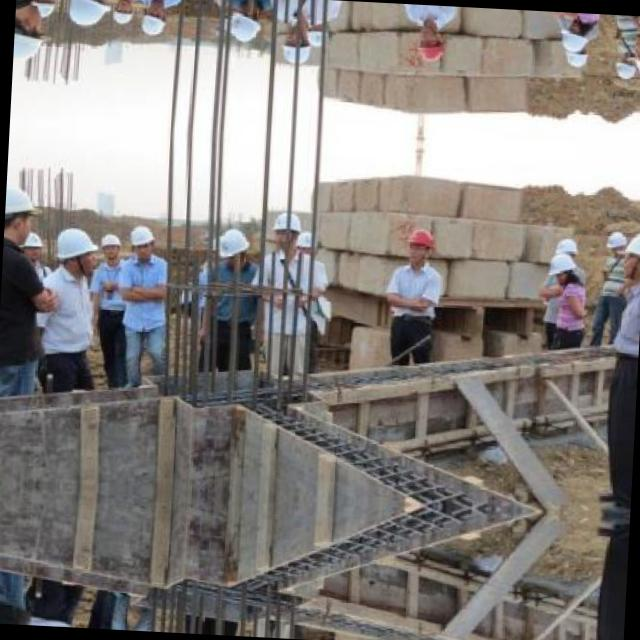helmet: (13, 1, 50, 63), (4, 182, 40, 245), (54, 225, 96, 272), (225, 3, 264, 43), (214, 224, 252, 264), (268, 210, 304, 250), (278, 23, 314, 63), (403, 224, 436, 263), (414, 24, 446, 64), (126, 223, 160, 260), (617, 227, 640, 281), (65, 0, 109, 28), (137, 0, 171, 35), (560, 14, 591, 52), (548, 251, 578, 288), (16, 224, 44, 262), (96, 230, 123, 260), (627, 28, 640, 82), (306, 19, 330, 48), (108, 0, 135, 25), (614, 53, 638, 80), (564, 38, 588, 65), (554, 238, 577, 265), (296, 228, 318, 256), (28, 0, 56, 22), (606, 228, 628, 255)
